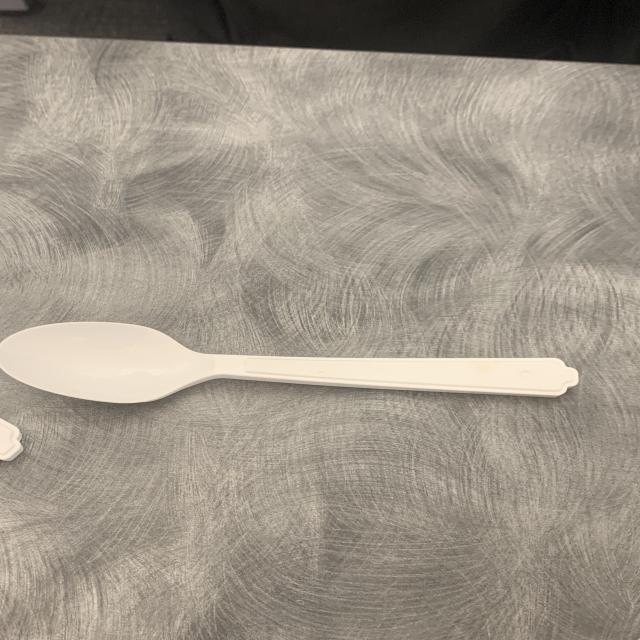spoon: (0, 296, 589, 449)
